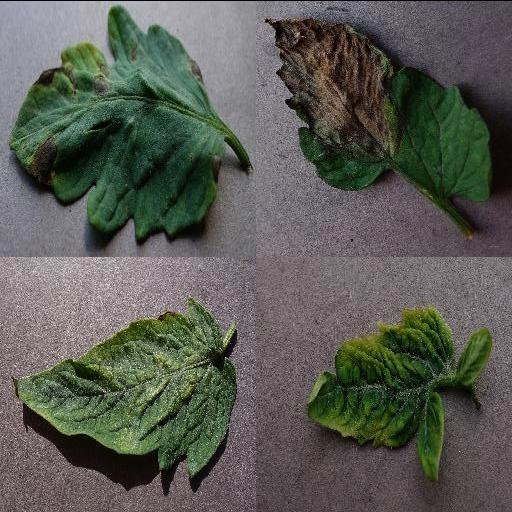Early Blight: (9, 6, 221, 241)
Late Blight: (264, 14, 494, 200)
Spider Mites: (10, 295, 238, 477)
Yellow Leaf Curl Virus: (305, 309, 455, 483)
